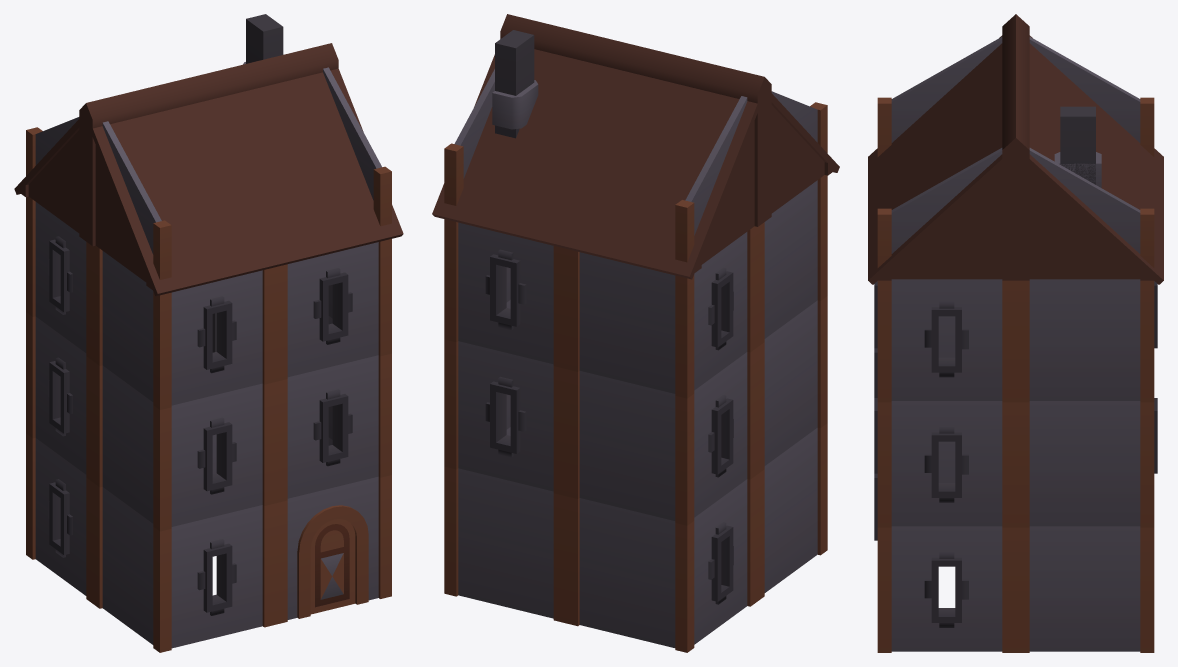
Rendered from maison-volcan-3.glb.
3 views of the same model, side by side, from view 1: azimuth 30°, elevation 25°; view 2: azimuth 150°, elevation 25°; view 3: azimuth 270°, elevation 25° (orthographic). The views are drawn at different scales.
Visible parts, largest first — view 1: wall-window-stone, roof-high; view 2: wall-window-stone, roof-high; view 3: wall-window-stone, roof-high.
Part boxes in pixels (left/top/right/bottom): wall-window-stone: left=26, top=14, right=391, bottom=652; roof-high: left=14, top=43, right=403, bottom=296; wall-window-stone: left=444, top=30, right=827, bottom=652; roof-high: left=432, top=14, right=839, bottom=279; wall-window-stone: left=874, top=37, right=1157, bottom=652; roof-high: left=868, top=14, right=1163, bottom=284.
Size of the model in its own units: 6.36 by 12.6 by 6.42.
2 materials, 1 textured.
